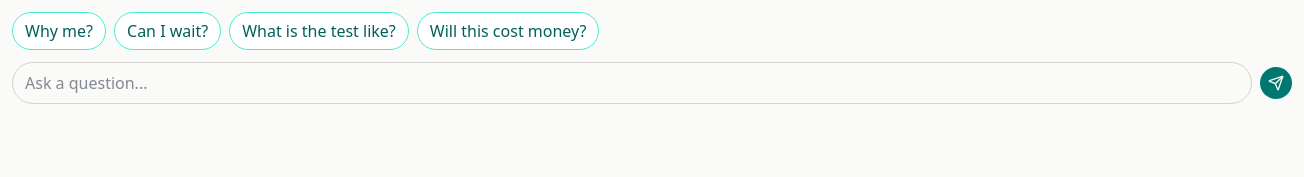
AssistantBox › shows the exact fallback for an off-script typed question
Type "will you sell my data?" into the field.
click(632, 83); type("will you sell my data?")  # box [12, 62, 1252, 104]
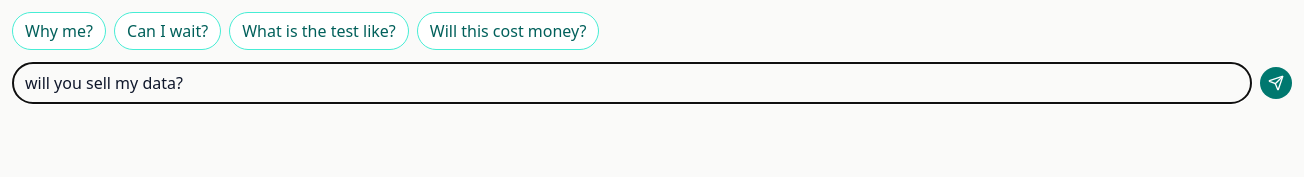
Click the button named "ask".
click(1276, 83)  # box [1260, 67, 1292, 99]
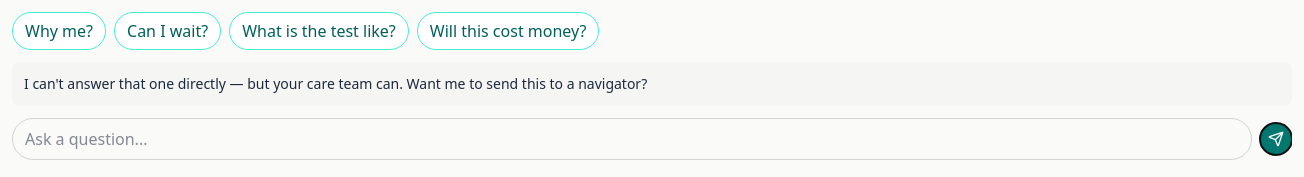
Check: the text "I can't answer that one directly — but your care team can. Want me to send this to a navigator?" is shown, box [24, 74, 647, 93]
